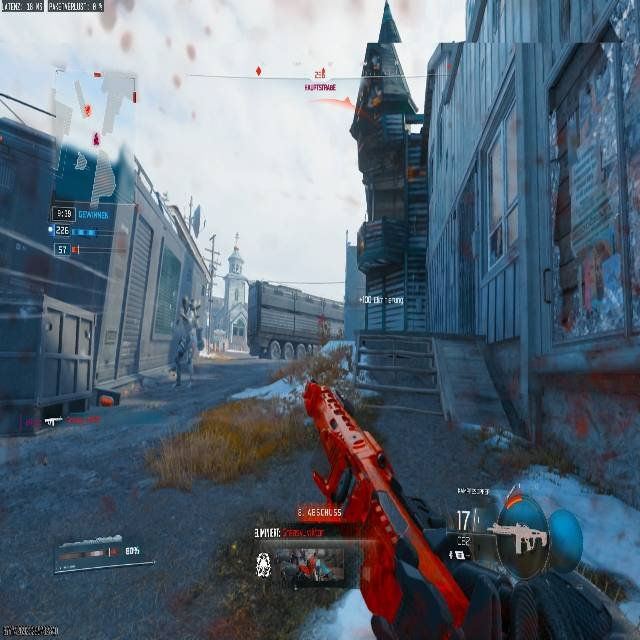head: (489, 500, 551, 574)
player: (450, 498, 623, 638)
